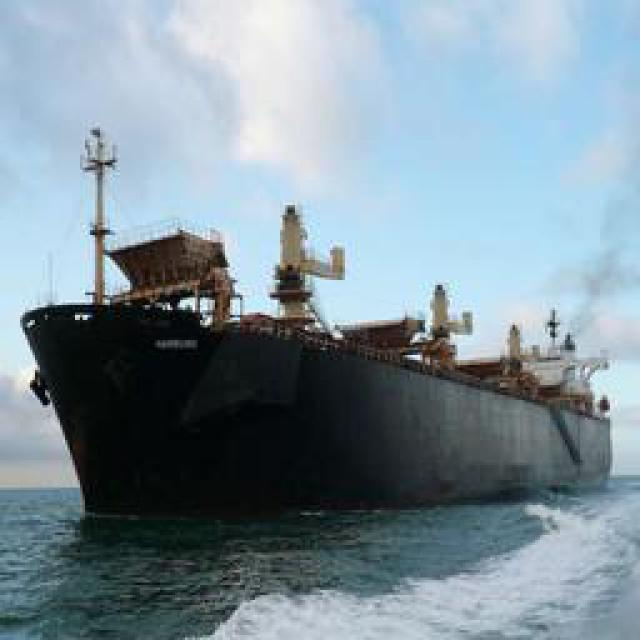Ship: (16, 172, 622, 524)
